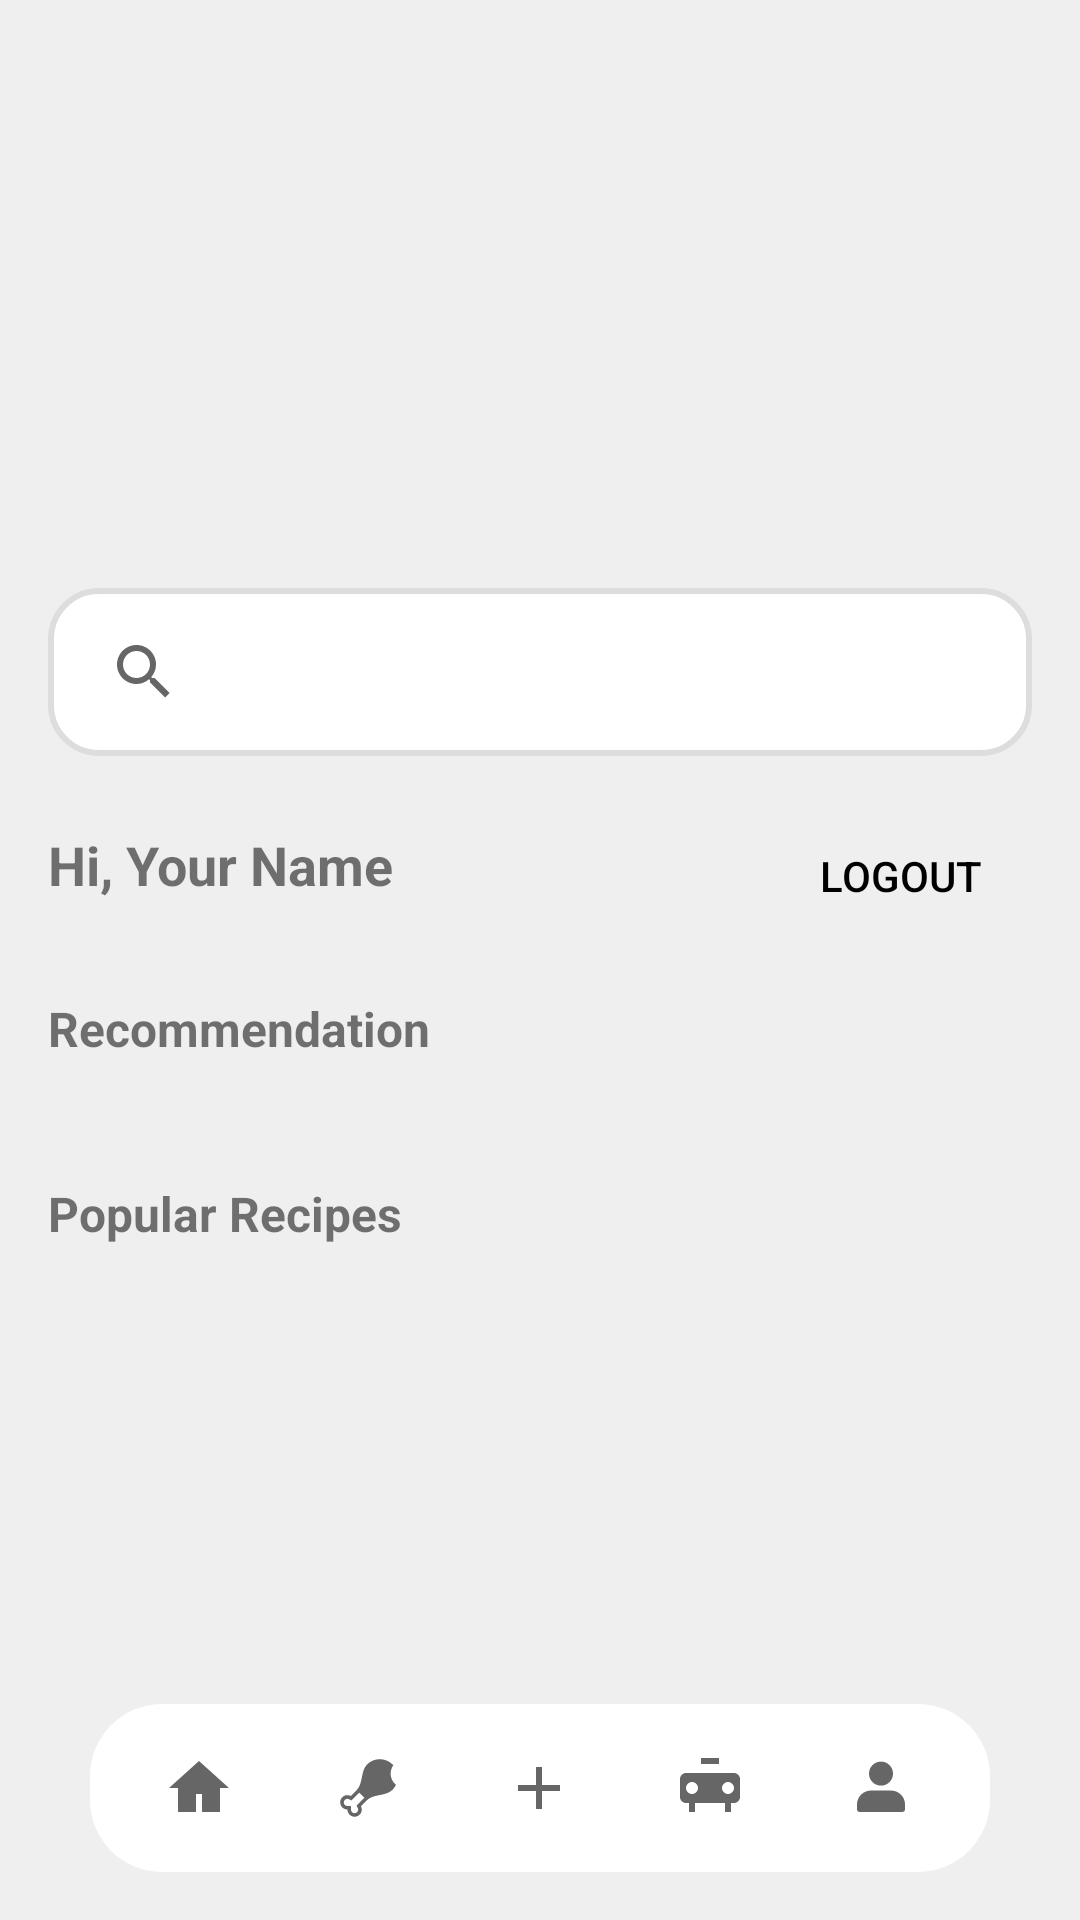

Named icons in this screenshot (1080w x 1920h) and their centers, point (x, y):
add: point (539, 1788)
food: point (368, 1788)
home: point (199, 1786)
profile: point (881, 1786)
